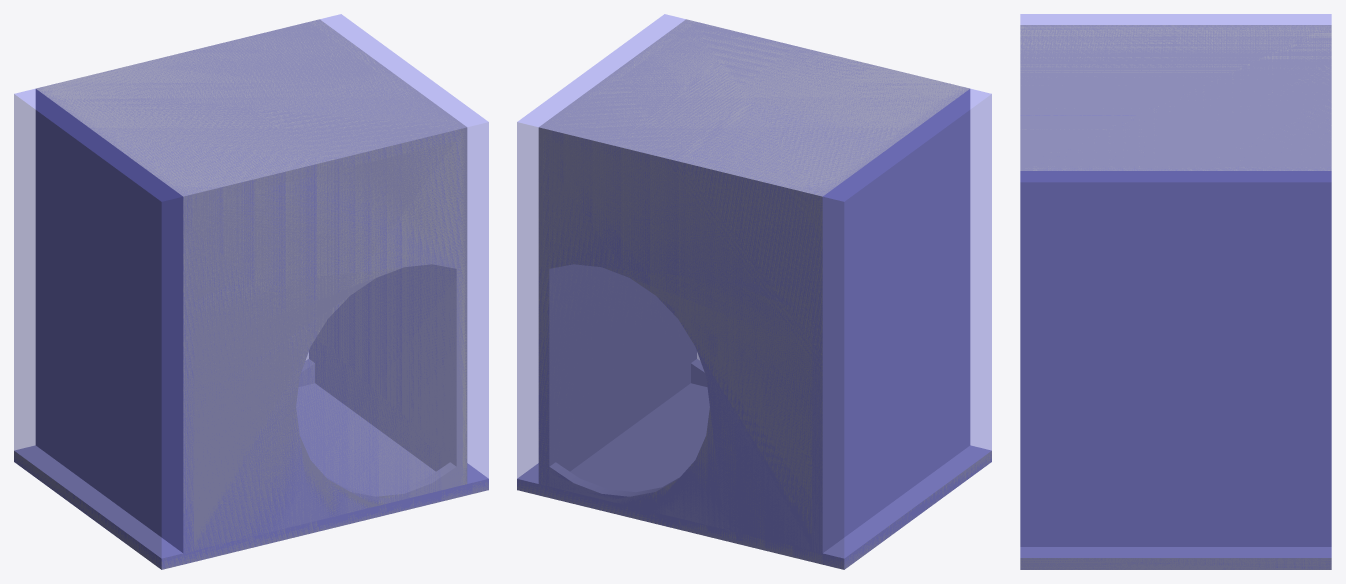
Rendered from GDCContainer.gltf.
3 renders of one model, left to right at view 1: azimuth 30°, elevation 25°; view 2: azimuth 150°, elevation 25°; view 3: azimuth 270°, elevation 25°, orthographic. The views are drawn at different scales.
Visible parts, largest first — view 1: logicGDCContainer_pv0x220c570, GDCAsemblyVolume0x220ba10, GDCBackPanel0x220b290, GDCRightPanel0x220b8b0, GDCTopPanel0x220abf0, GDCLeftPanel0x220b7a0, GDCBottom0x220bdc0; view 2: logicGDCContainer_pv0x220c570, GDCFrontPanel0x220b410, GDCRightPanel0x220b8b0, GDCAsemblyVolume0x220ba10, GDCTopPanel0x220abf0, GDCLeftPanel0x220b7a0, GDCBottom0x220bdc0; view 3: logicGDCContainer_pv0x220c570, GDCLeftPanel0x220b7a0, GDCTopPanel0x220abf0, GDCBottom0x220bdc0, GDCAsemblyVolume0x220ba10, GDCRightPanel0x220b8b0.
Boxes of the visible parts, bbox=[...] form: logicGDCContainer_pv0x220c570: bbox=[14, 14, 488, 568]; GDCAsemblyVolume0x220ba10: bbox=[37, 20, 466, 530]; GDCBackPanel0x220b290: bbox=[194, 141, 456, 550]; GDCRightPanel0x220b8b0: bbox=[35, 86, 193, 553]; GDCTopPanel0x220abf0: bbox=[47, 22, 456, 205]; GDCLeftPanel0x220b7a0: bbox=[309, 19, 467, 486]; GDCBottom0x220bdc0: bbox=[14, 383, 488, 569]; logicGDCContainer_pv0x220c570: bbox=[517, 14, 991, 568]; GDCFrontPanel0x220b410: bbox=[549, 141, 811, 550]; GDCRightPanel0x220b8b0: bbox=[812, 86, 970, 553]; GDCAsemblyVolume0x220ba10: bbox=[539, 20, 967, 550]; GDCTopPanel0x220abf0: bbox=[549, 22, 958, 205]; GDCLeftPanel0x220b7a0: bbox=[538, 19, 696, 486]; GDCBottom0x220bdc0: bbox=[517, 383, 991, 569]; logicGDCContainer_pv0x220c570: bbox=[1020, 14, 1331, 568]; GDCLeftPanel0x220b7a0: bbox=[1020, 165, 1331, 546]; GDCTopPanel0x220abf0: bbox=[1020, 30, 1331, 165]; GDCBottom0x220bdc0: bbox=[1020, 547, 1331, 569]; GDCAsemblyVolume0x220ba10: bbox=[1020, 25, 1331, 170]; GDCRightPanel0x220b8b0: bbox=[1020, 25, 1331, 30].
Size of the model in its own units: 57.6 by 61.9 by 45.
